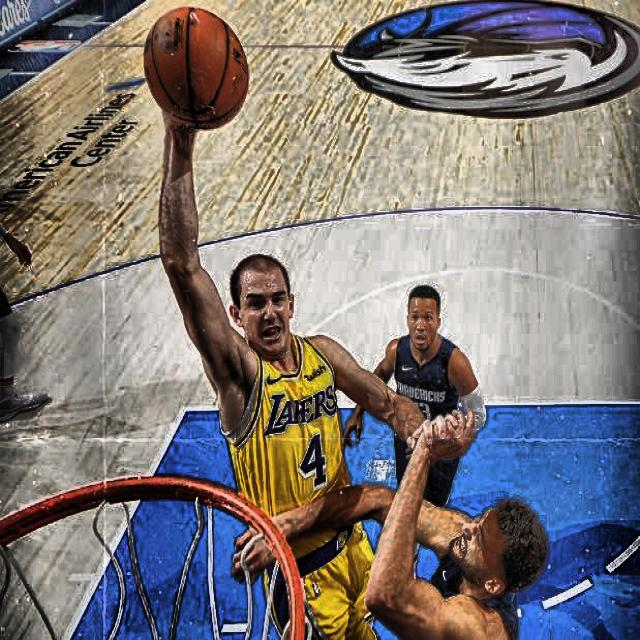board: (143, 5, 250, 130)
